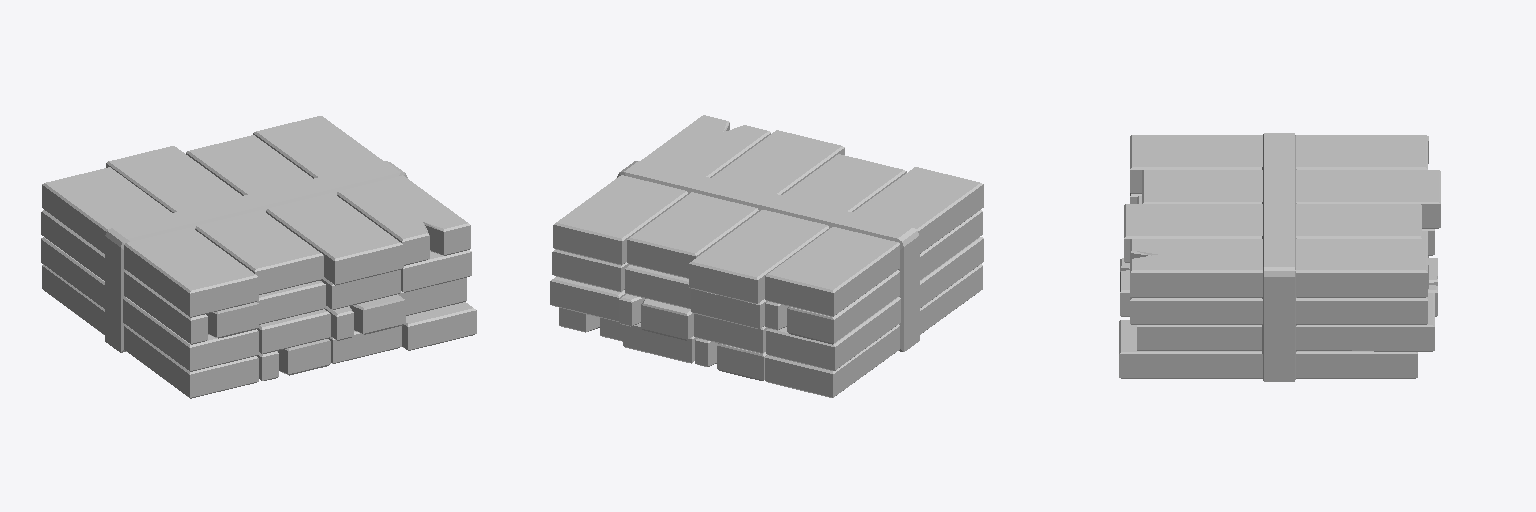
File: Wood_Planks_Stack_Medium.obj
3 renders of one model, left to right at view 1: azimuth 30°, elevation 25°; view 2: azimuth 150°, elevation 25°; view 3: azimuth 270°, elevation 25°, orthographic.
Visible parts, largest first — view 1: Wood_Planks_Stack_Medium; view 2: Wood_Planks_Stack_Medium; view 3: Wood_Planks_Stack_Medium.
Boxes of the visible parts, box(x1,y1,x2,y2) form: Wood_Planks_Stack_Medium: box(41, 116, 476, 398); Wood_Planks_Stack_Medium: box(550, 115, 983, 397); Wood_Planks_Stack_Medium: box(1119, 133, 1440, 381).
Size of the model in its own units: 1.67 by 0.6232 by 1.62.